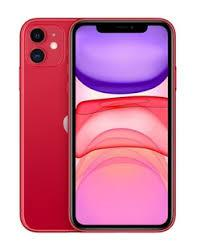Smartphone: (70, 14, 176, 234), (19, 19, 77, 240)
